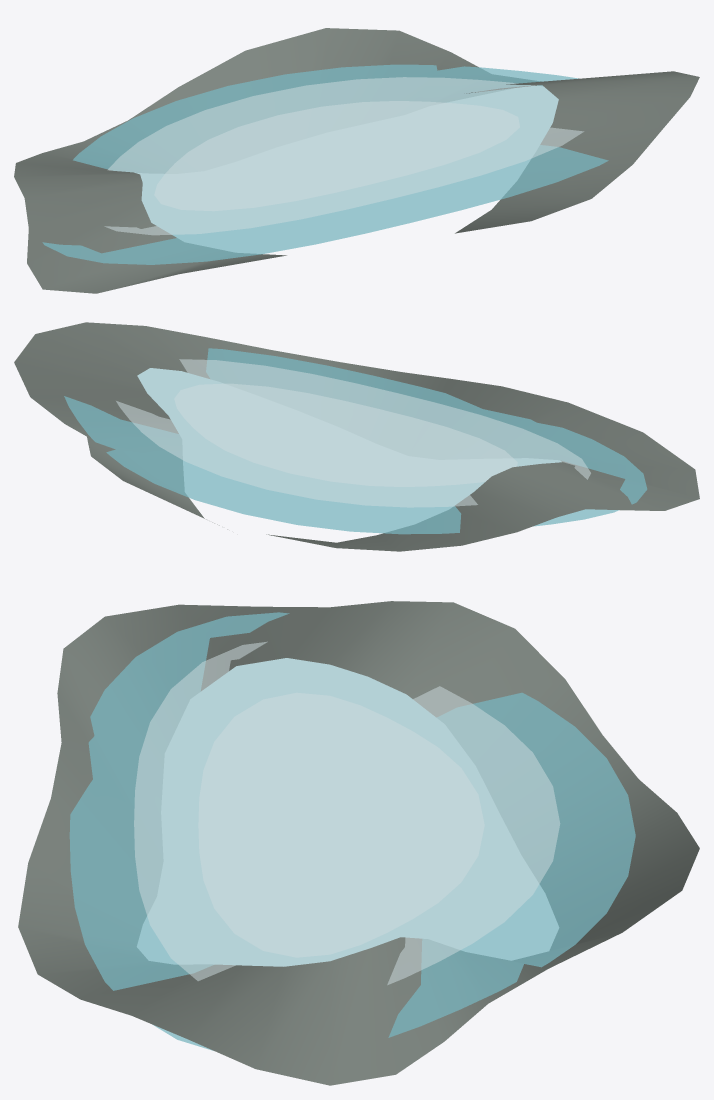
File: water.gltf
3 renders of one model, top to bottom at view 1: azimuth 30°, elevation 25°; view 2: azimuth 150°, elevation 25°; view 3: azimuth 270°, elevation 25°, orthographic. The views are drawn at different scales.
Visible parts, largest first — view 1: oval pond plane, wet stone rim, outer ripple ring, inner ripple ring; view 2: oval pond plane, wet stone rim, outer ripple ring, inner ripple ring; view 3: oval pond plane, wet stone rim, outer ripple ring, inner ripple ring.
Part boxes in pixels (<box>): oval pond plane: <box>42,64,608,264</box>; wet stone rim: <box>14,28,699,293</box>; outer ripple ring: <box>104,77,583,235</box>; inner ripple ring: <box>154,101,519,210</box>; oval pond plane: <box>64,348,647,534</box>; wet stone rim: <box>14,322,699,551</box>; outer ripple ring: <box>116,359,590,507</box>; inner ripple ring: <box>174,384,517,486</box>; oval pond plane: <box>69,612,635,1050</box>; wet stone rim: <box>18,601,699,1085</box>; outer ripple ring: <box>134,641,560,984</box>; inner ripple ring: <box>198,693,484,957</box>.
Bounding box in the file's own units: 3.6 × 0.4461 × 2.06.
